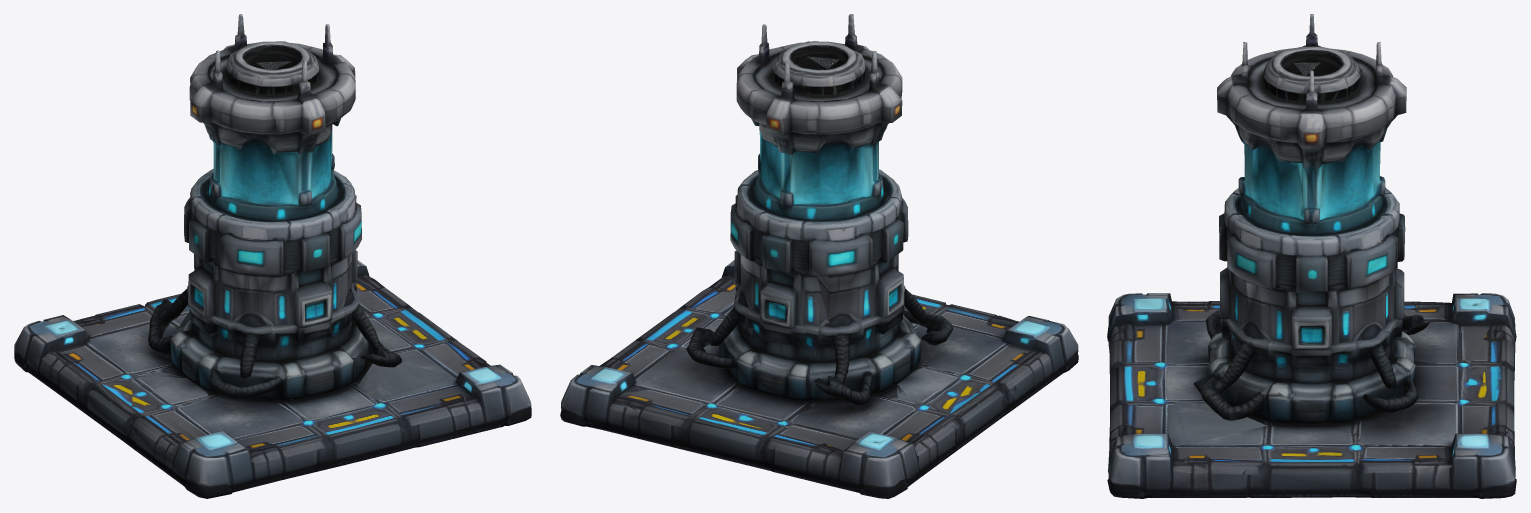
The picture shows the model from 3 angles, left to right: view 1: azimuth 30°, elevation 25°; view 2: azimuth 150°, elevation 25°; view 3: azimuth 270°, elevation 25°; orthographic projection. The views are drawn at different scales.
Visible parts, largest first — view 1: geometry_0.002; view 2: geometry_0.002; view 3: geometry_0.002.
Boxes of the visible parts, bbox=[...] form: geometry_0.002: bbox=[14, 14, 531, 498]; geometry_0.002: bbox=[560, 14, 1078, 498]; geometry_0.002: bbox=[1107, 14, 1516, 498].
Bounding box in the file's own units: 12.16 × 12.18 × 12.14.
Materials: 1 (1 with a texture image).
